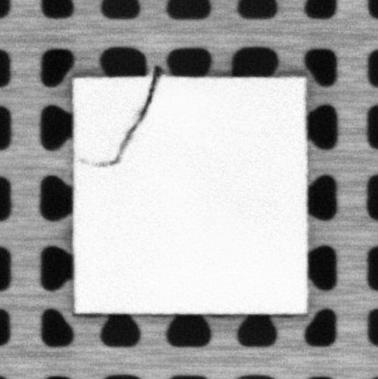DIE_INK: (79, 79, 157, 168)
